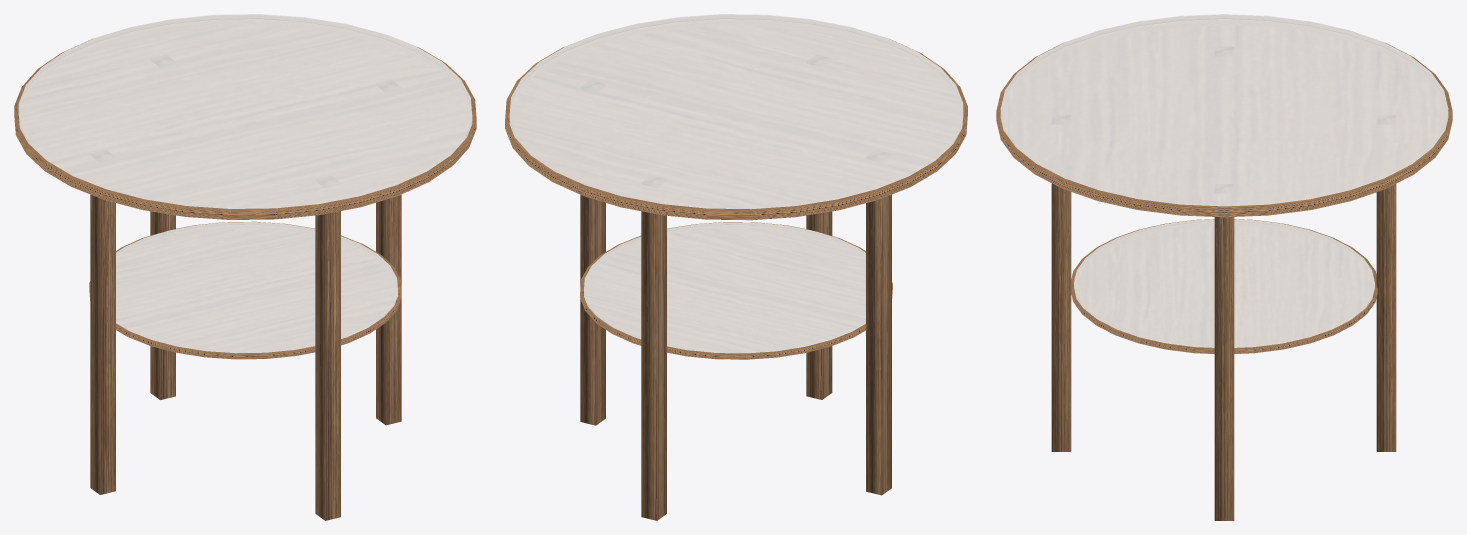
File: CoffeeTable.glb
The picture shows the model from 3 angles, left to right: view 1: azimuth 30°, elevation 25°; view 2: azimuth 150°, elevation 25°; view 3: azimuth 270°, elevation 25°; orthographic projection.
Parts seen in each view (by area): view 1: Cylinder.001, Cylinder.003, Cube.001, Cube.003, Cylinder, Cube.002, Cylinder.002, Cube; view 2: Cylinder.001, Cylinder.003, Cube, Cube.003, Cylinder, Cube.002, Cylinder.002, Cube.001; view 3: Cylinder.001, Cylinder.003, Cube.002, Cylinder, Cube.001, Cube, Cylinder.002.
Part boxes in pixels (left/top/right/bottom): Cylinder.001: left=18, top=14, right=472, bottom=208; Cylinder.003: left=116, top=222, right=397, bottom=353; Cube.001: left=315, top=211, right=340, bottom=520; Cube.003: left=90, top=194, right=115, bottom=494; Cylinder: left=14, top=35, right=476, bottom=219; Cube.002: left=376, top=194, right=401, bottom=425; Cylinder.002: left=89, top=221, right=401, bottom=359; Cube: left=150, top=211, right=175, bottom=399; Cylinder.001: left=509, top=14, right=963, bottom=209; Cylinder.003: left=584, top=222, right=865, bottom=353; Cube: left=641, top=211, right=666, bottom=520; Cube.003: left=866, top=194, right=891, bottom=495; Cylinder: left=505, top=35, right=967, bottom=220; Cube.002: left=580, top=195, right=605, bottom=425; Cylinder.002: left=580, top=222, right=892, bottom=359; Cube.001: left=806, top=211, right=832, bottom=399; Cylinder.001: left=1000, top=14, right=1448, bottom=206; Cylinder.003: left=1074, top=219, right=1374, bottom=347; Cube.002: left=1214, top=217, right=1234, bottom=520; Cylinder: left=996, top=42, right=1452, bottom=217; Cube.001: left=1051, top=183, right=1071, bottom=451; Cube: left=1376, top=184, right=1396, bottom=451; Cylinder.002: left=1071, top=219, right=1377, bottom=353.
Size of the model in its own units: 0.8 by 0.6573 by 0.8.
Materials: 2 (1 with a texture image).
